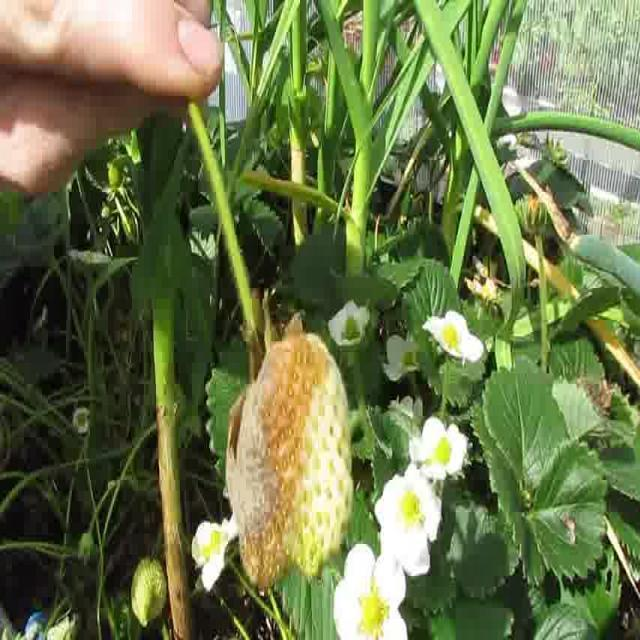Moho gris: (224, 332, 354, 586)
